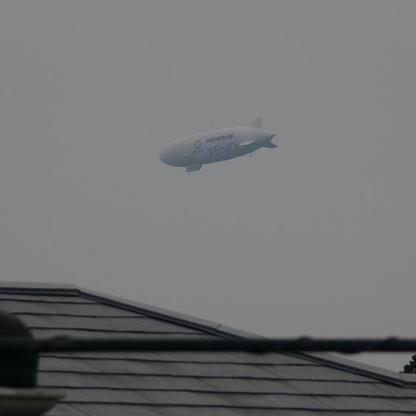Airship: (158, 114, 279, 181)
